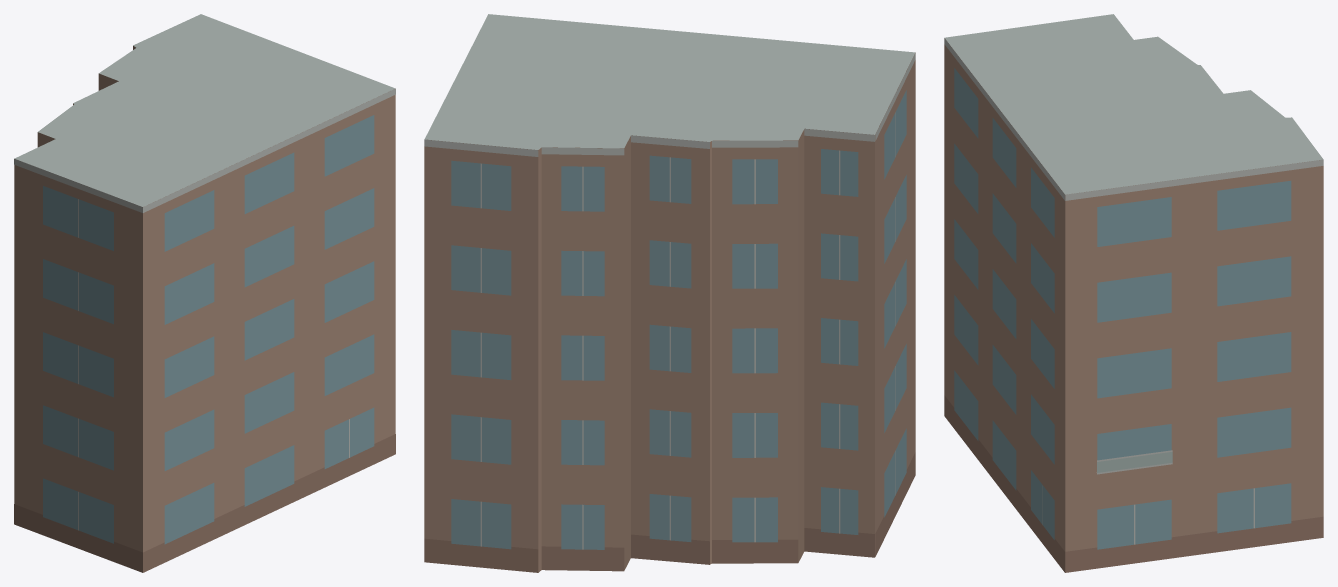
File: survey-upis-32862997.glb
3 renders of one model, left to right at view 1: azimuth 30°, elevation 25°; view 2: azimuth 150°, elevation 25°; view 3: azimuth 270°, elevation 25°, orthographic. The views are drawn at different scales.
Parts seen in each view (by area): view 1: survey-upis-32862997.tmp; view 2: survey-upis-32862997.tmp; view 3: survey-upis-32862997.tmp.
Part boxes in pixels (x1,y1,x2,y2): survey-upis-32862997.tmp: (14, 14, 395, 572); survey-upis-32862997.tmp: (424, 14, 915, 572); survey-upis-32862997.tmp: (944, 14, 1323, 572).
Size of the model in its own units: 15.07 by 14.7 by 13.37.
